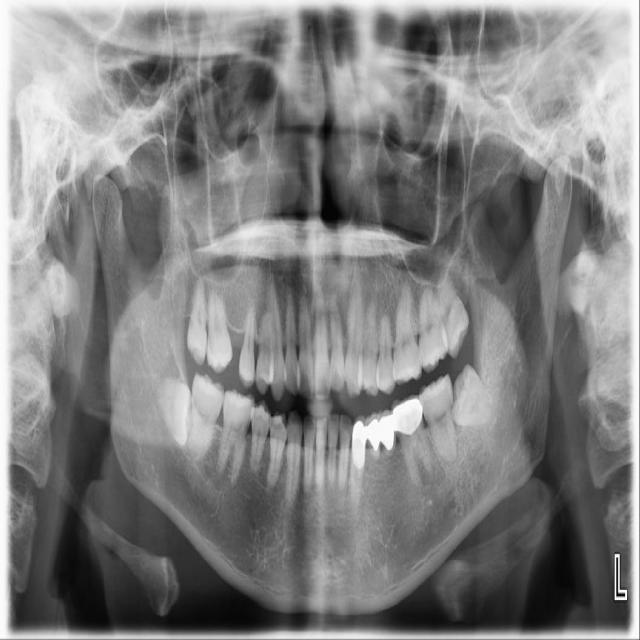Crown: (391, 393, 425, 443), (365, 410, 382, 463), (350, 415, 366, 470), (378, 409, 396, 455)
Missing teeth: (228, 328, 247, 370)
Periapical lesion: (199, 443, 231, 490), (416, 453, 448, 490), (263, 467, 282, 499), (228, 470, 241, 490)
Root Canal Treatment: (612, 561, 618, 576)
impacted tooth: (451, 364, 502, 424), (153, 374, 192, 442)
